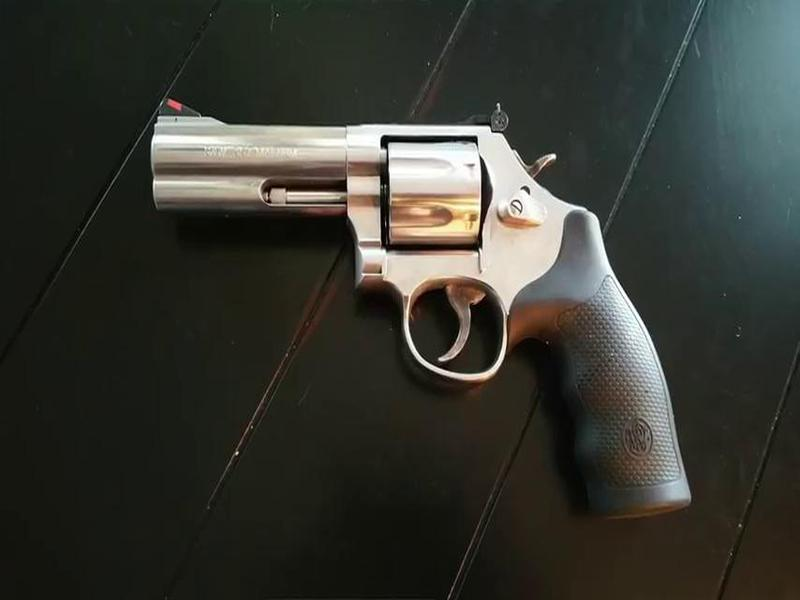Revolver: (123, 87, 705, 531)
